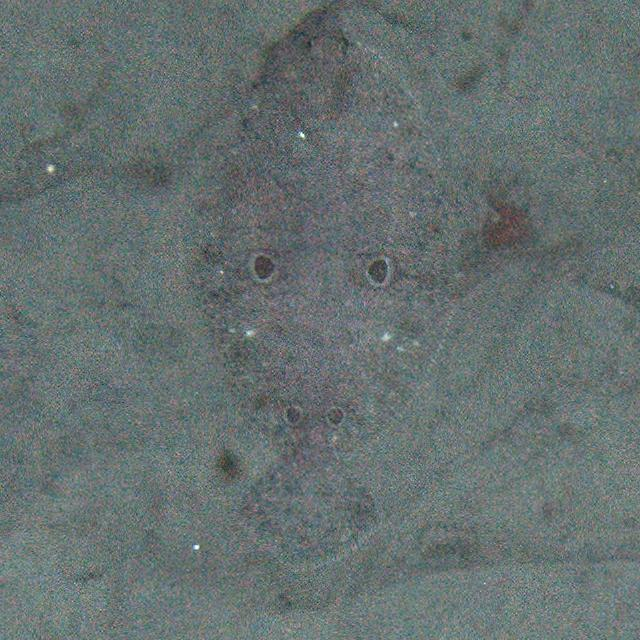flatfish: (187, 0, 436, 577)
